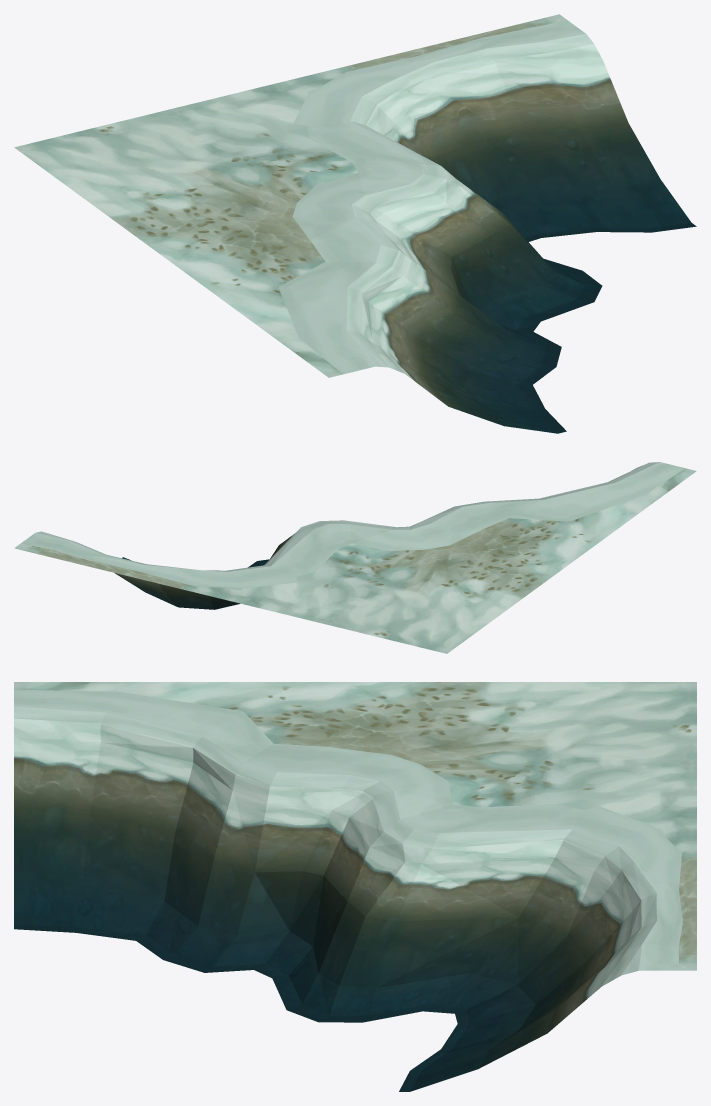
The model's file is tundra_concave_riverbed01.fbx.
3 renders of one model, top to bottom at view 1: azimuth 30°, elevation 25°; view 2: azimuth 150°, elevation 25°; view 3: azimuth 270°, elevation 25°, orthographic. The views are drawn at different scales.
Visible parts, largest first — view 1: obj3.006; view 2: obj3.006; view 3: obj3.006.
Boxes of the visible parts, x1=… form: obj3.006: x1=14, y1=14, x2=696, y2=433; obj3.006: x1=14, y1=462, x2=696, y2=653; obj3.006: x1=14, y1=682, x2=696, y2=1091.
Bounding box in the file's own units: 20.33 × 4.07 × 20.33.
